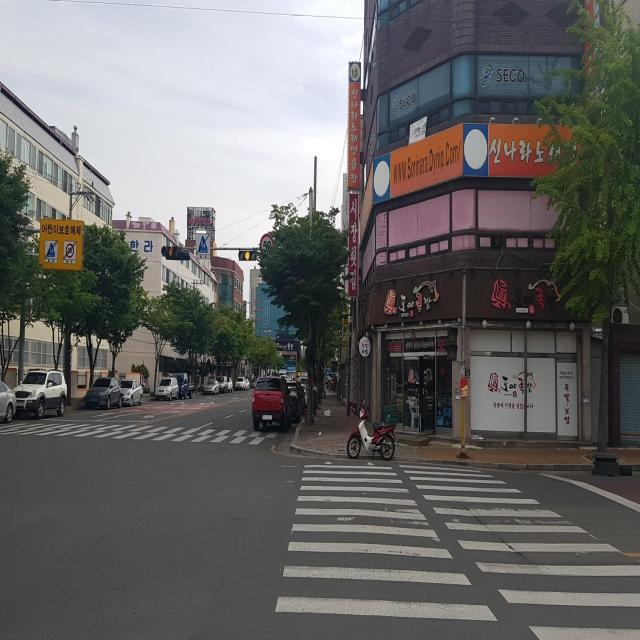횡단보도: (273, 458, 640, 640), (0, 420, 281, 448)
